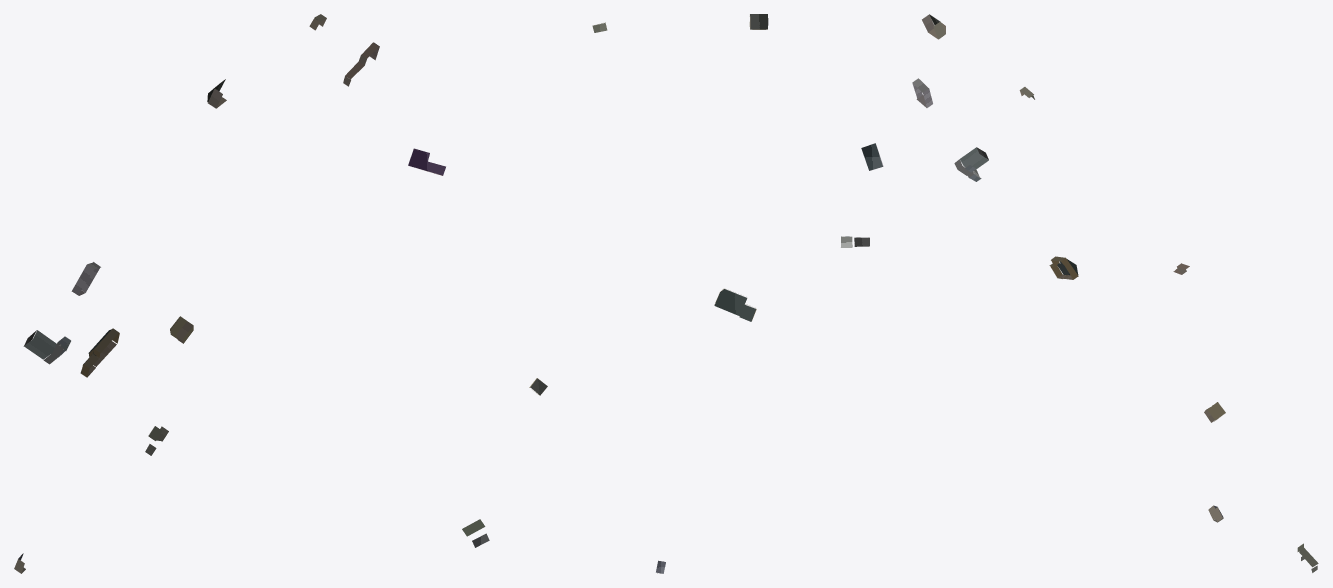
The model's file is tile_LOD3_r4_c5.glb.
3 views of the same model, side by side, from view 1: azimuth 30°, elevation 25°; view 2: azimuth 150°, elevation 25°; view 3: azimuth 270°, elevation 25° (orthographic). The views are drawn at different scales.
Bounding box in the file's own units: 226 × 272 × 193.
39 materials, 25 textured.
